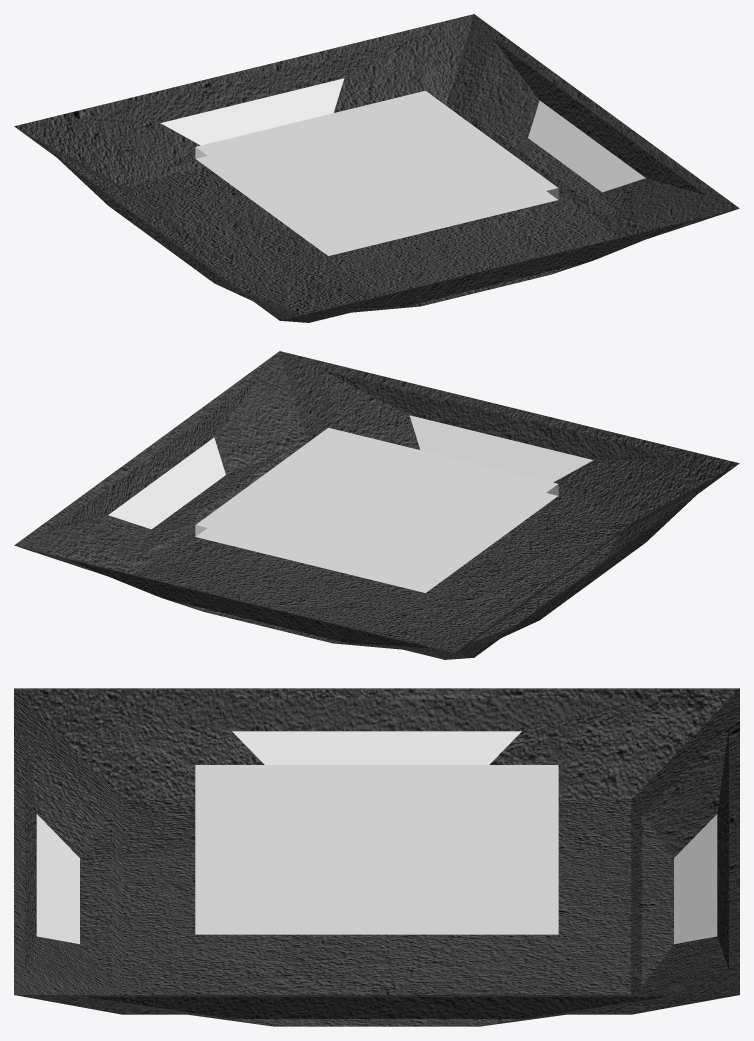
File: Detection.glb
3 views of the same model, one above another, from view 1: azimuth 30°, elevation 25°; view 2: azimuth 150°, elevation 25°; view 3: azimuth 270°, elevation 25° (orthographic). The views are drawn at different scales.
Visible parts, largest first — view 1: Frame, Place, Light, Mesh; view 2: Frame, Place, Light, Mesh; view 3: Frame, Place, Light, Mesh.
Boxes of the visible parts, <box> form: Frame: <box>14,14,739,322</box>; Place: <box>196,91,557,243</box>; Light: <box>160,78,645,192</box>; Mesh: <box>195,147,558,255</box>; Frame: <box>14,351,739,659</box>; Place: <box>196,428,557,580</box>; Light: <box>108,415,593,529</box>; Mesh: <box>195,484,558,592</box>; Frame: <box>14,688,739,1026</box>; Place: <box>195,765,558,918</box>; Light: <box>36,731,717,944</box>; Mesh: <box>195,918,558,934</box>.
Size of the model in its own units: 2 by 0.2 by 2.
Materials: 1 (1 with a texture image).
